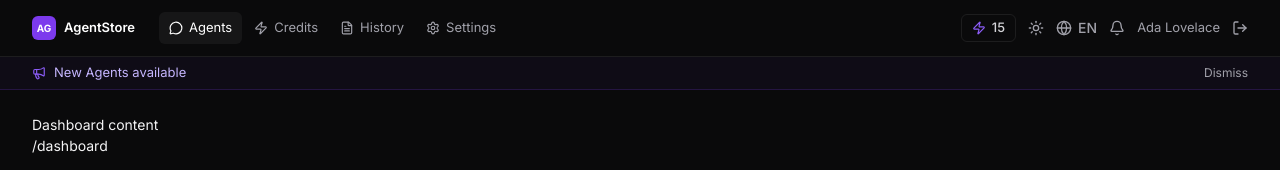
Test: Layout › dismisses latest announcement and stores dismissal
The image size is (1280, 170).
Expected: the text "New Agents available" is shown, [54,63,186,82]
What coordinates should you click on to do the following:
click the button "Dismiss"
I would click on:
 (1226, 73)
Its box is [1204,65,1248,81].
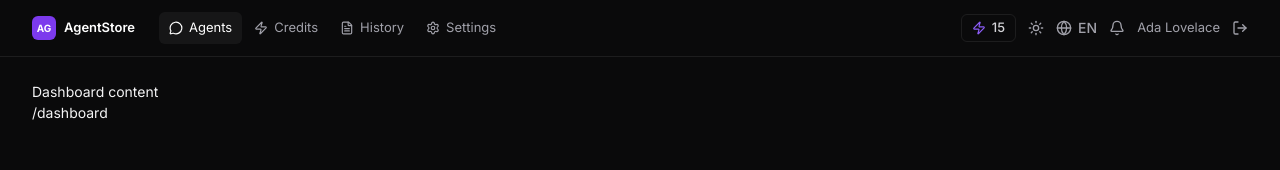
Expected: the text "New Agents available" is gone
